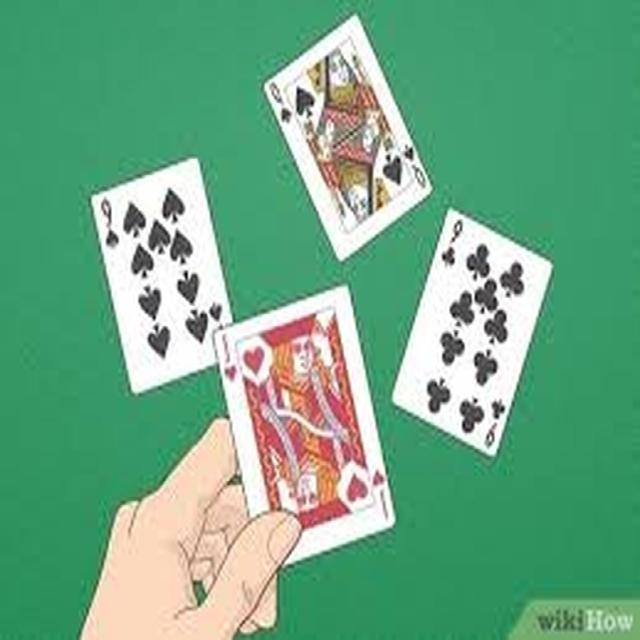card: (390, 149, 569, 479), (202, 292, 393, 552), (251, 18, 436, 269), (78, 158, 236, 388)
